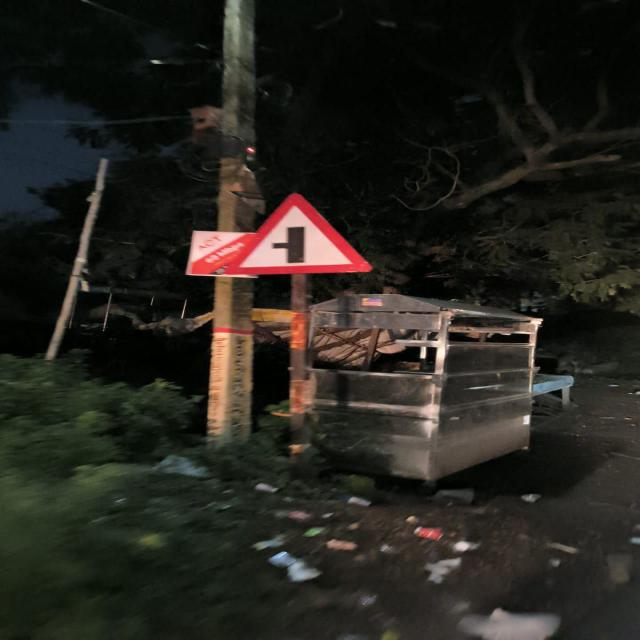Sideroad_toleft: (226, 194, 368, 276)
